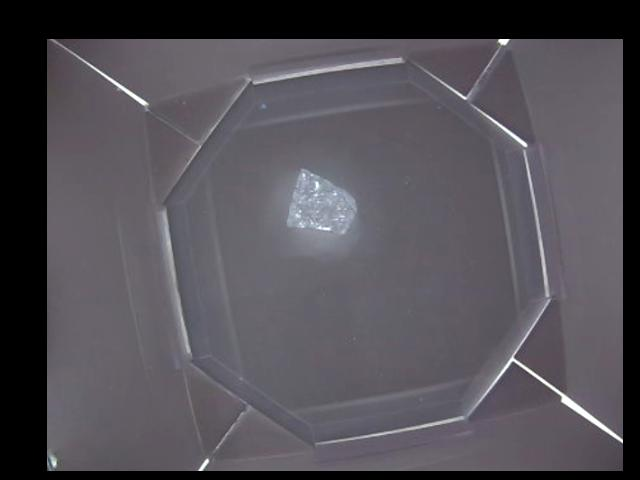China: (288, 167, 356, 233)
